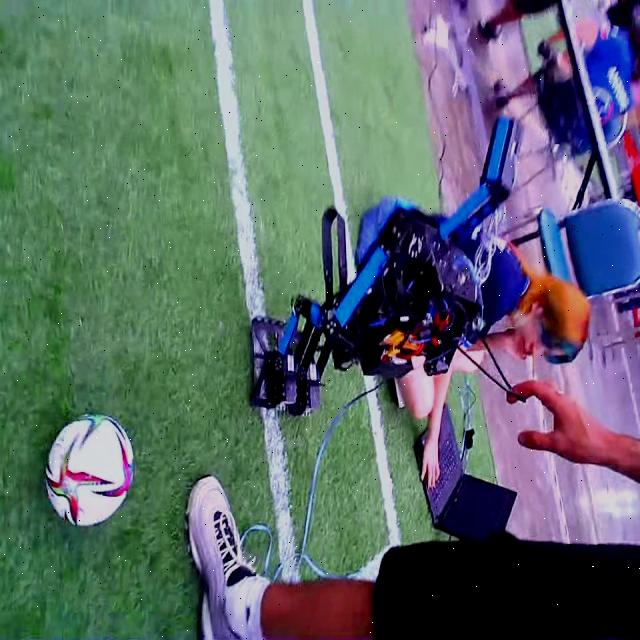ball: (44, 415, 132, 530)
